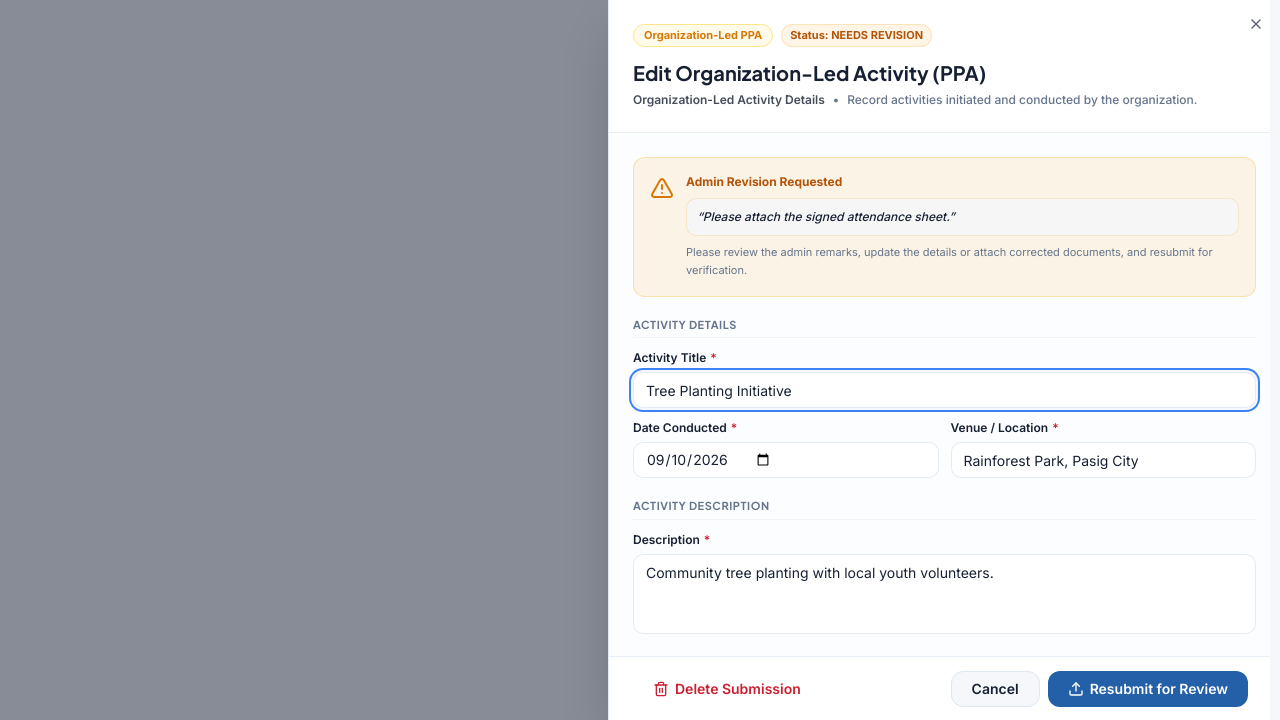
Test: Organization-Led PPA Drawer & File Submission/Persistence Workflow › Group 5: PPA Loading State & Action Discrimination UI (Save as Draft vs Submit for Review) › 4. Needs Revision resubmission: Resubmit for Review displays spinner during submission
Click the button "Resubmit for Review": (1148, 688) left=1048, top=670, right=1248, bottom=706
(page scrolled)
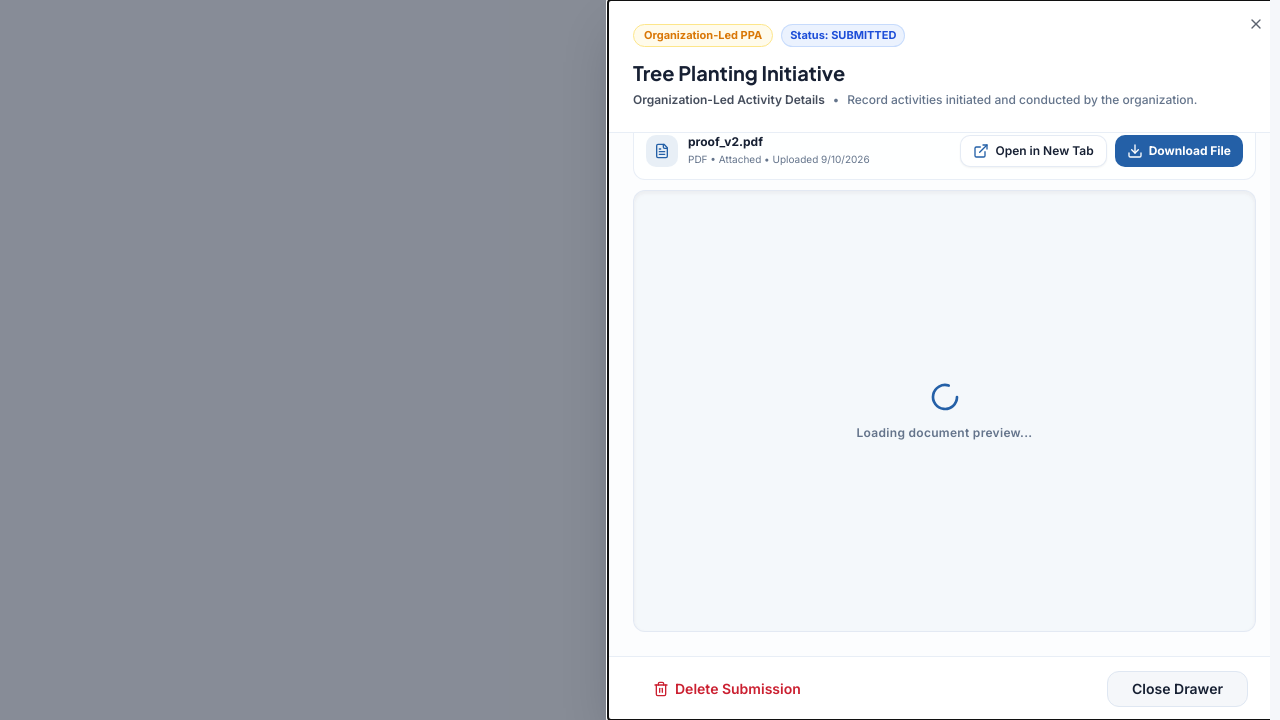
Expected: the icon with class "animate-spin" is shown, left=928, top=381, right=960, bottom=413
